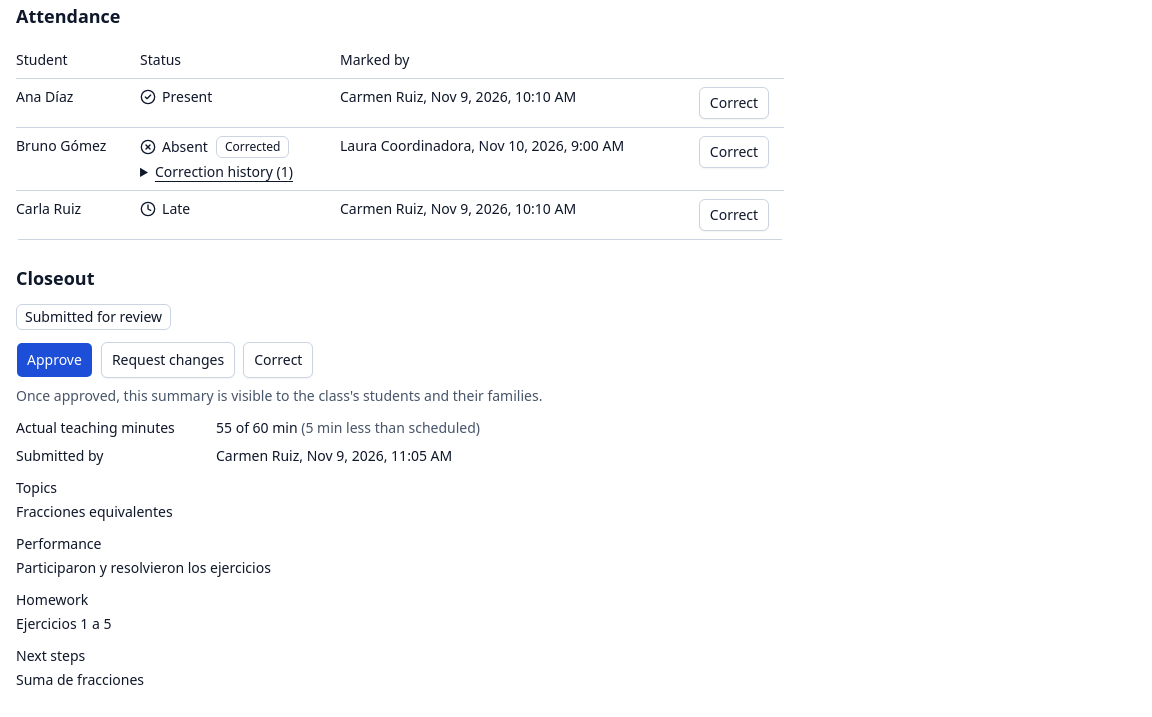
Test: the review actions (#78 G1) › maps version_conflict on approve
The image size is (1152, 717).
(page scrolled)
What coordinates should you click on to do the following:
click the button "Approve"
I would click on:
 (54, 360)
Its box is [16,342,93,378].
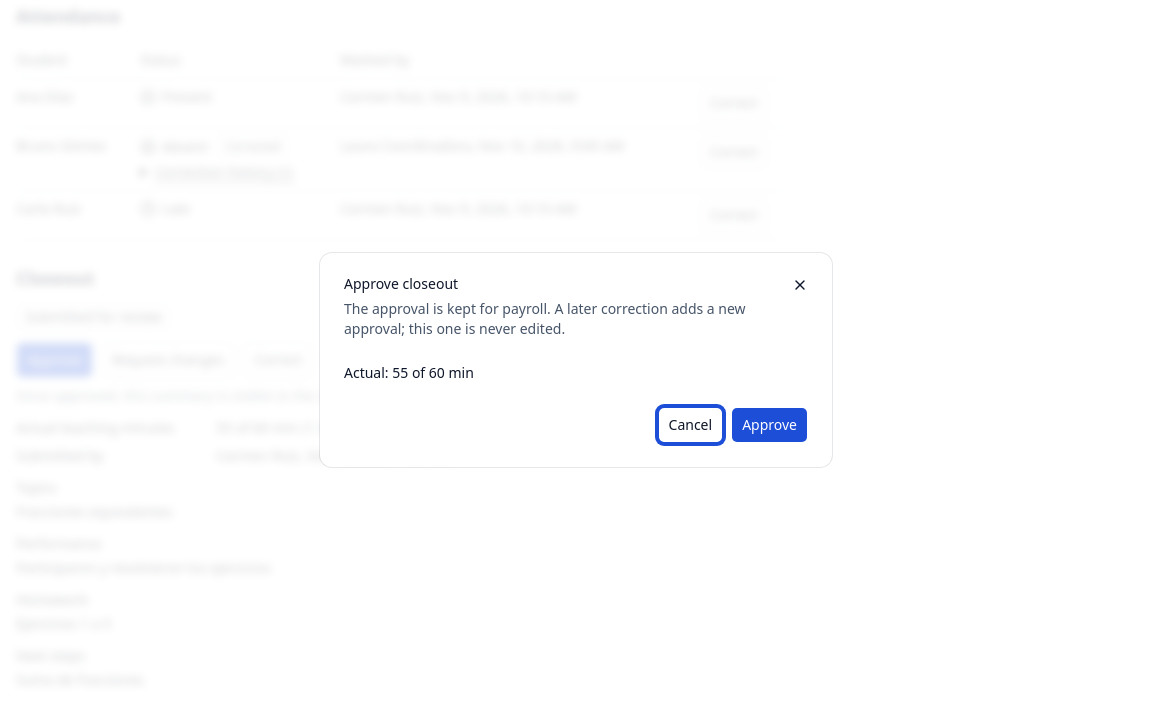
What coordinates should you click on to do the following:
click the button "Approve"
I would click on:
 (770, 425)
Its box is [731,407,808,443].
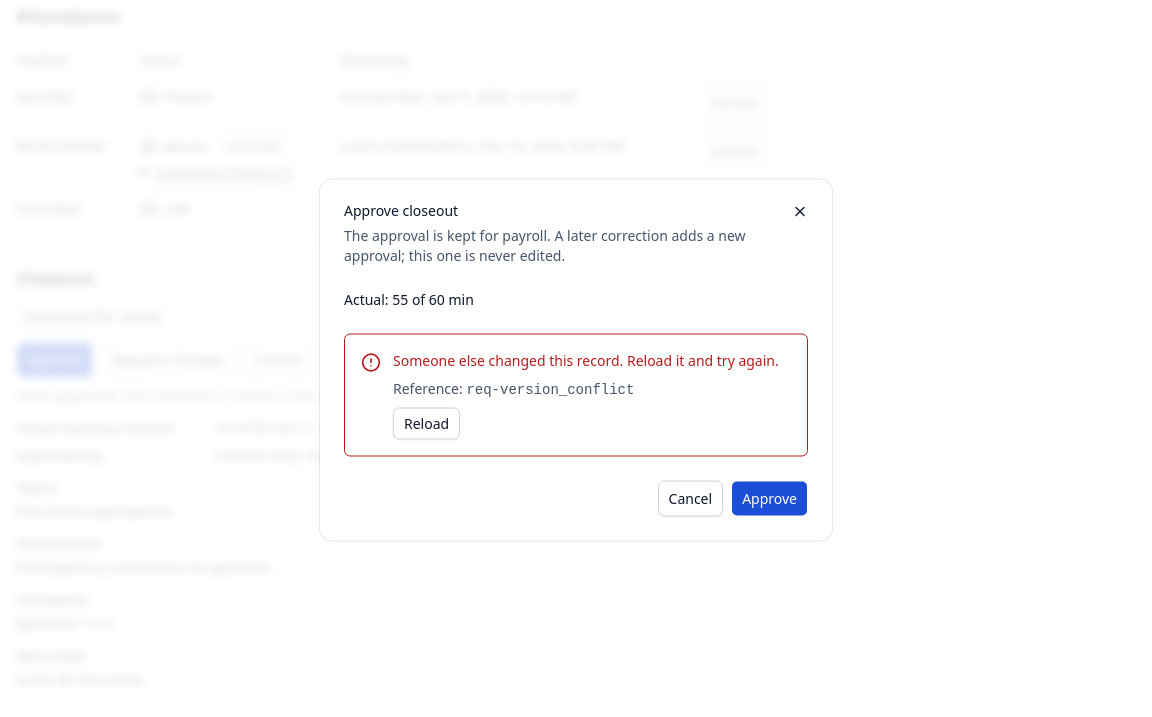
What coordinates should you click on to do the following:
click the button "Reload"
I would click on:
 (427, 424)
Its box is [393,408,460,440].
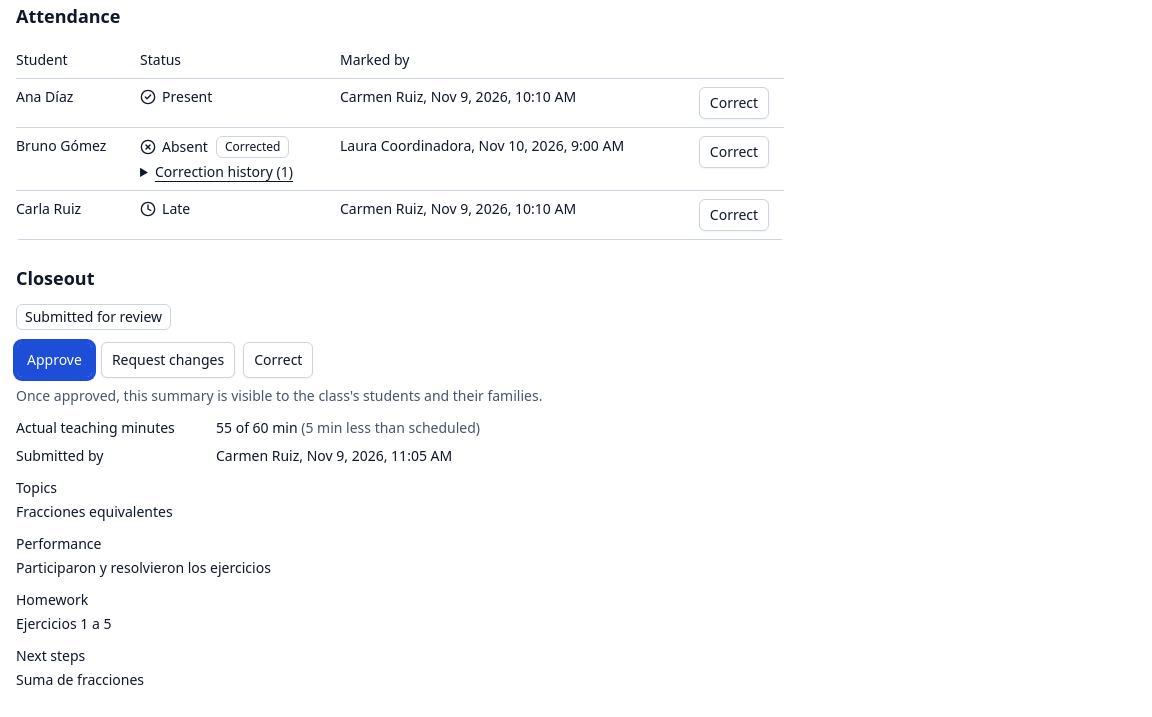
Expected: the dialog is gone
